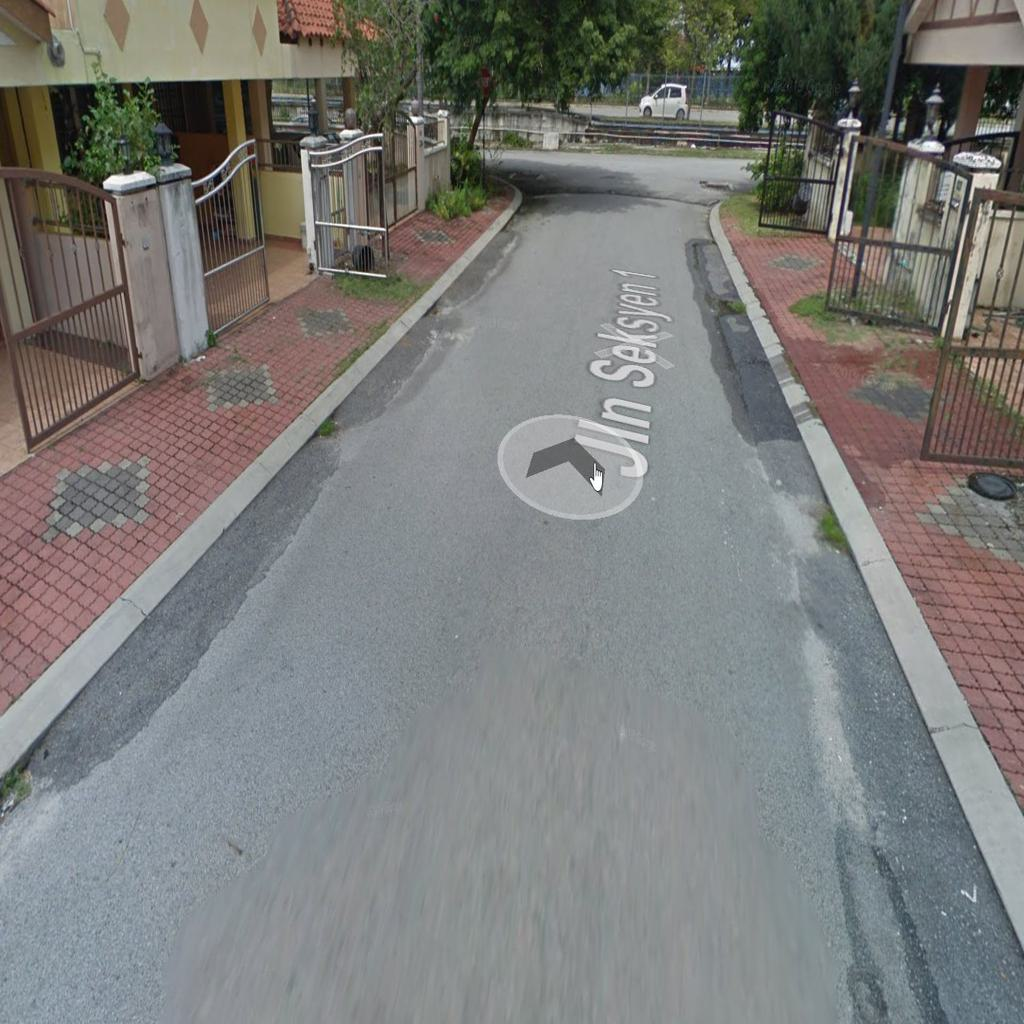Junction: (680, 131, 799, 211), (459, 117, 565, 202)
